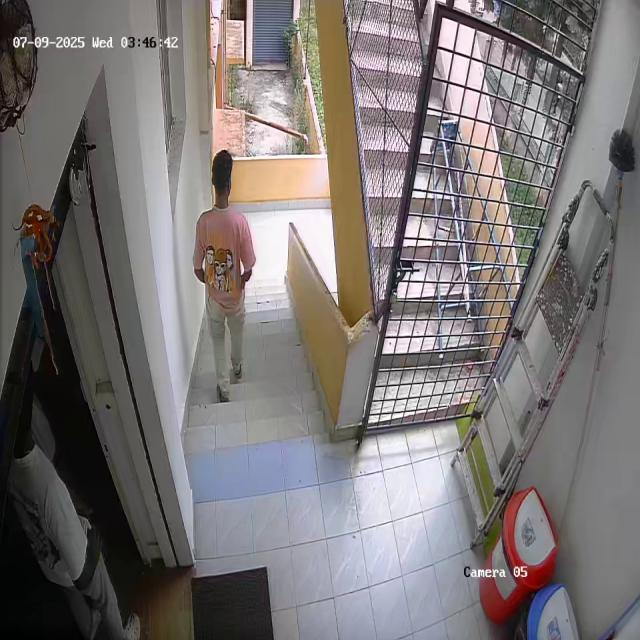person: (194, 148, 257, 402)
